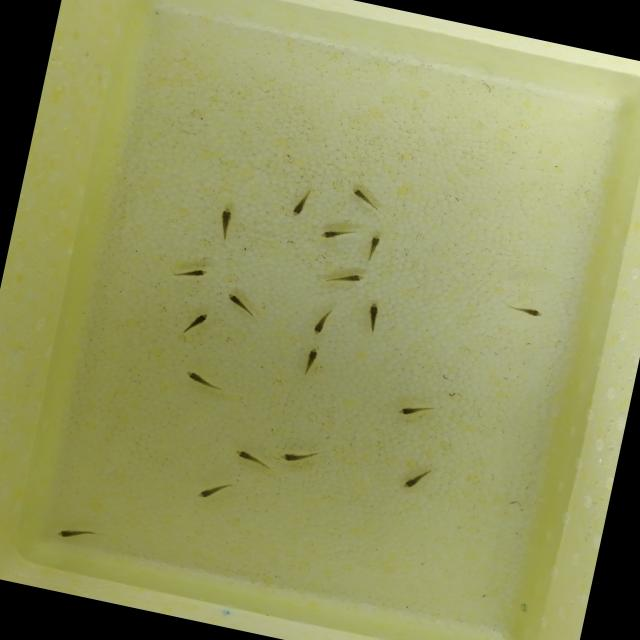fingerling: (274, 442, 320, 471), (391, 396, 434, 424), (510, 297, 550, 326), (342, 183, 383, 210), (330, 265, 372, 291), (174, 366, 218, 390), (398, 464, 432, 494), (52, 519, 92, 544), (177, 260, 214, 286), (219, 289, 256, 315), (304, 310, 336, 340), (228, 446, 270, 468), (314, 221, 351, 245), (288, 189, 313, 223), (184, 306, 214, 333), (192, 481, 224, 505), (298, 343, 324, 371), (213, 204, 236, 234), (361, 298, 384, 328), (364, 230, 384, 258)
